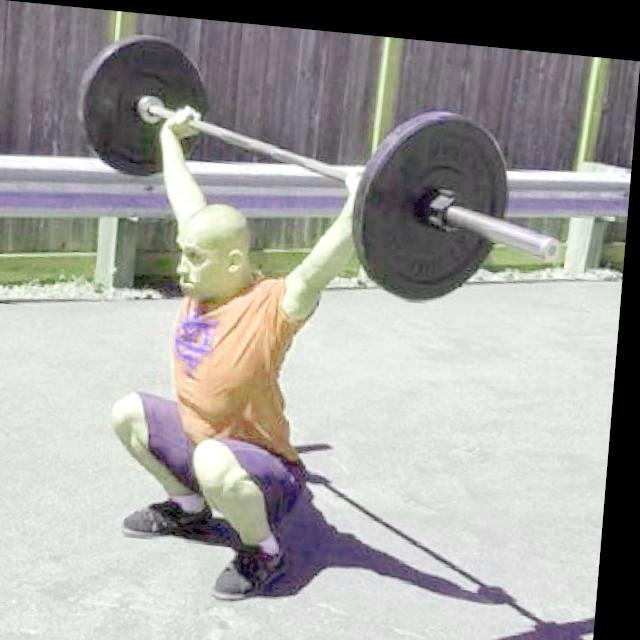barbell: (352, 96, 577, 308)
